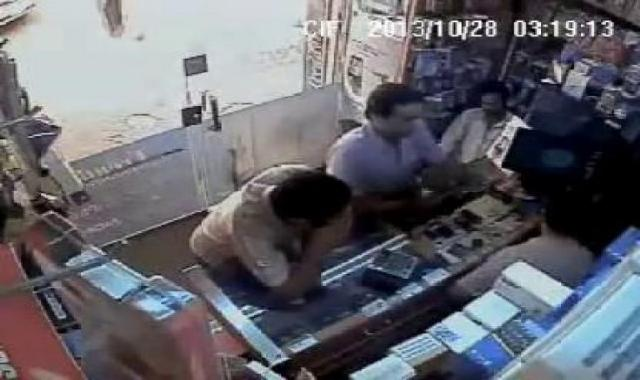no_hairnet: (283, 169, 362, 224), (359, 83, 422, 134)
